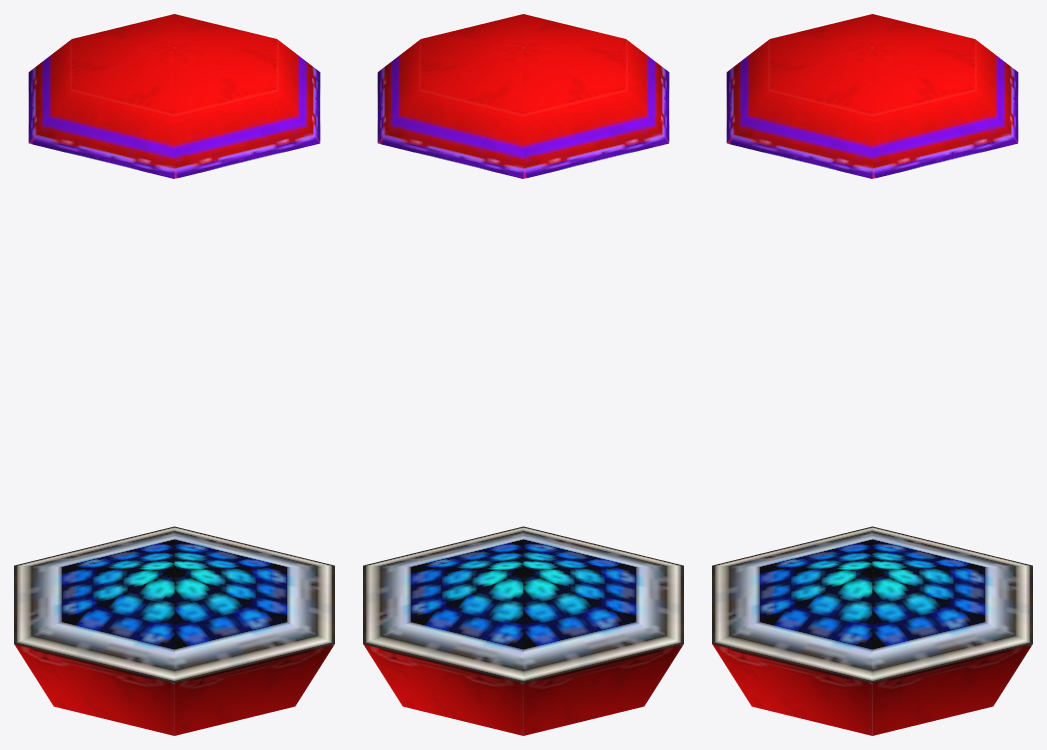
File: ItemBoxAirBase.obj
The picture shows the model from 3 angles, left to right: view 1: azimuth 30°, elevation 25°; view 2: azimuth 150°, elevation 25°; view 3: azimuth 270°, elevation 25°; orthographic projection.
Size of the model in its own units: 11.74 by 22.9 by 10.17.
Materials: 1 (1 with a texture image).
